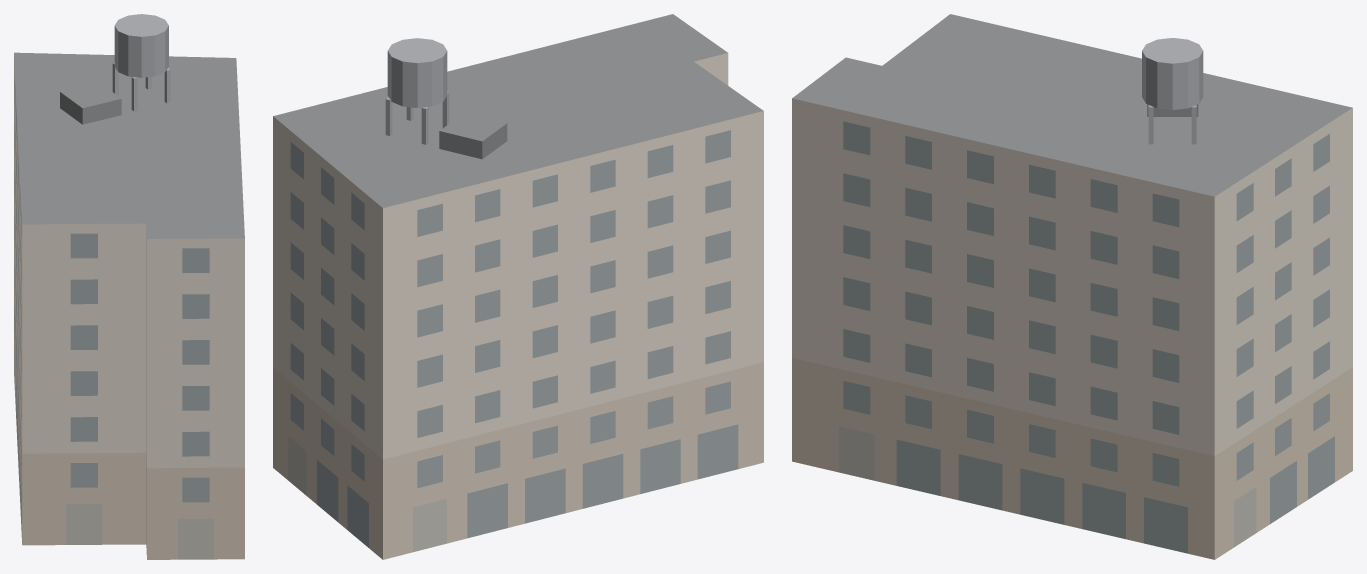
The model's file is doitt-39969__lod_1.glb.
3 renders of one model, left to right at view 1: azimuth 30°, elevation 25°; view 2: azimuth 150°, elevation 25°; view 3: azimuth 270°, elevation 25°, orthographic. The views are drawn at different scales.
Bounding box in the file's own units: 25.36 × 28.9 × 32.88.
